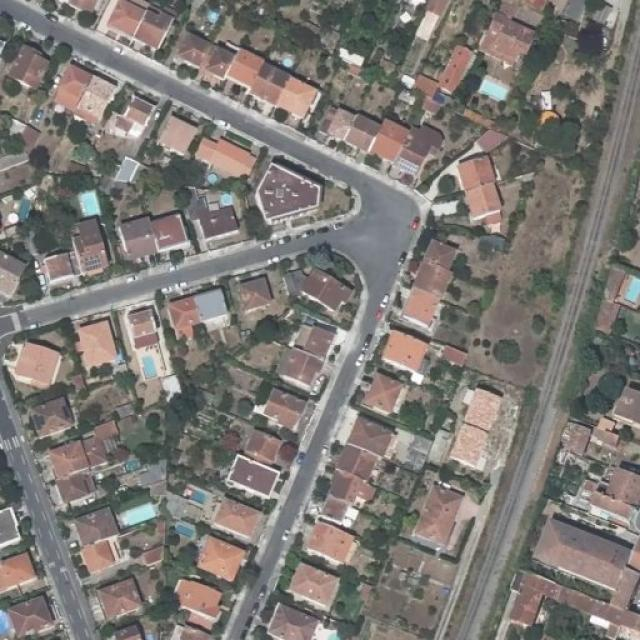immeuble: (255, 164, 319, 223)
maison: (549, 416, 640, 532), (492, 572, 640, 640), (531, 514, 640, 602), (408, 479, 472, 545), (367, 116, 442, 172), (488, 0, 546, 71), (280, 252, 348, 311), (303, 501, 359, 562), (100, 0, 169, 45), (0, 33, 52, 91), (8, 339, 62, 392), (192, 133, 256, 177), (224, 450, 282, 498), (284, 555, 340, 603), (193, 531, 244, 582), (321, 103, 372, 152), (229, 50, 289, 90), (172, 28, 232, 67), (380, 329, 437, 370), (54, 57, 94, 115), (264, 596, 316, 639), (208, 494, 260, 536), (93, 577, 145, 619), (75, 318, 118, 366), (436, 41, 478, 90), (8, 595, 56, 636), (47, 436, 93, 478), (175, 574, 219, 617), (0, 143, 38, 192), (347, 414, 393, 454), (126, 306, 164, 352), (233, 272, 275, 313), (71, 503, 115, 542), (197, 200, 242, 238), (362, 368, 403, 409), (257, 388, 303, 424), (0, 245, 30, 300), (399, 286, 442, 324), (31, 396, 74, 434), (276, 75, 316, 115), (115, 216, 155, 256), (279, 351, 321, 389), (156, 114, 196, 153), (192, 285, 229, 327), (419, 237, 458, 275), (78, 537, 117, 575), (290, 322, 334, 355), (326, 469, 366, 505), (413, 261, 449, 300), (242, 429, 285, 461), (466, 180, 506, 214), (72, 222, 106, 262), (458, 152, 496, 187), (150, 209, 185, 247), (340, 447, 374, 482), (0, 552, 34, 587), (37, 250, 76, 280), (168, 296, 198, 332), (120, 97, 152, 125), (0, 506, 17, 546), (422, 0, 451, 17)
piscine: (116, 496, 162, 524), (616, 262, 640, 308), (10, 190, 35, 228), (476, 76, 514, 100), (136, 352, 166, 382), (78, 188, 104, 218), (178, 482, 208, 504), (174, 518, 194, 540), (220, 187, 238, 206), (204, 12, 227, 24), (201, 166, 217, 182)
usine: (365, 546, 455, 640)
